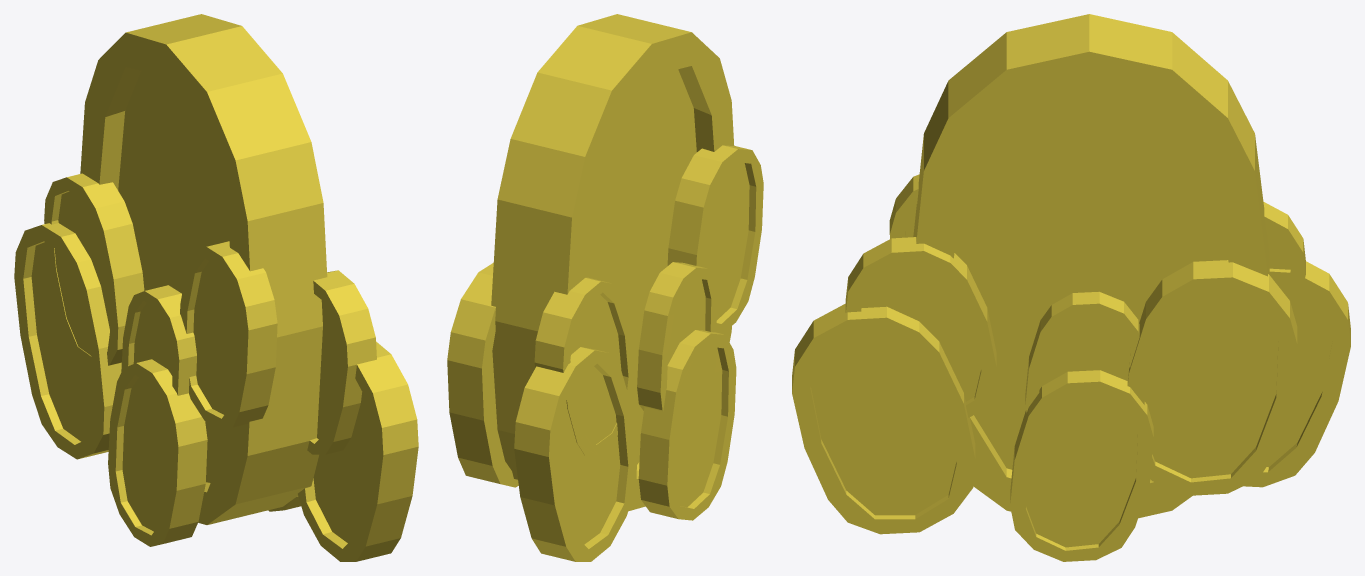
The model's file is KleptoCoin.fbx.
3 renders of one model, left to right at view 1: azimuth 30°, elevation 25°; view 2: azimuth 150°, elevation 25°; view 3: azimuth 270°, elevation 25°, orthographic. The views are drawn at different scales.
Parts seen in each view (by area): view 1: Cube.002; view 2: Cube.002; view 3: Cube.002.
Part boxes in pixels (<box>): Cube.002: <box>14,14,418,561</box>; Cube.002: <box>447,14,763,561</box>; Cube.002: <box>792,14,1350,561</box>.
Size of the model in its own units: 75.22 by 220 by 228.
